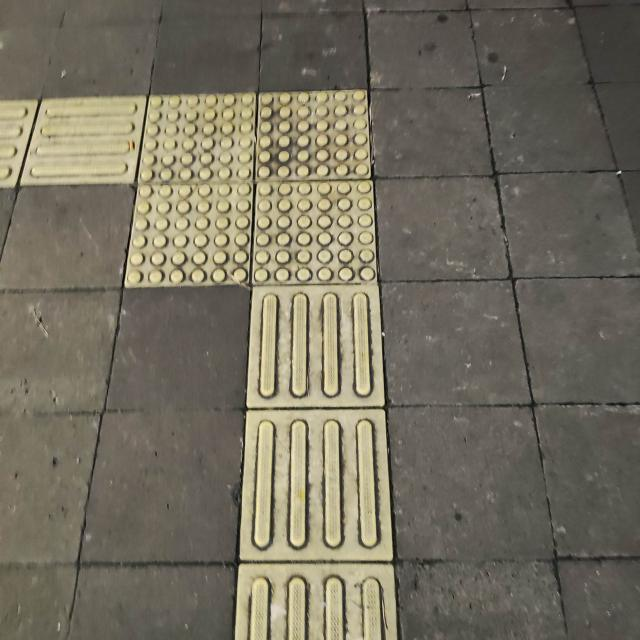kiri: (0, 72, 431, 405)
